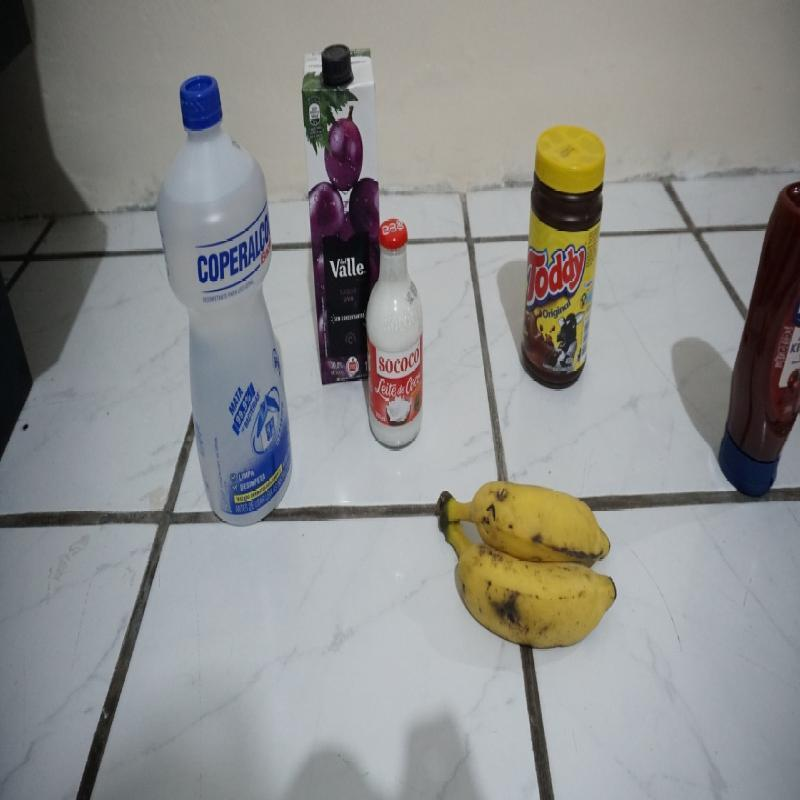Alcohol Bottle: (155, 71, 294, 533)
Banana: (432, 475, 624, 656)
Chocolate Powder: (516, 123, 609, 388)
Coconut Milk: (365, 218, 424, 449)
Ketchup: (719, 180, 800, 502)
